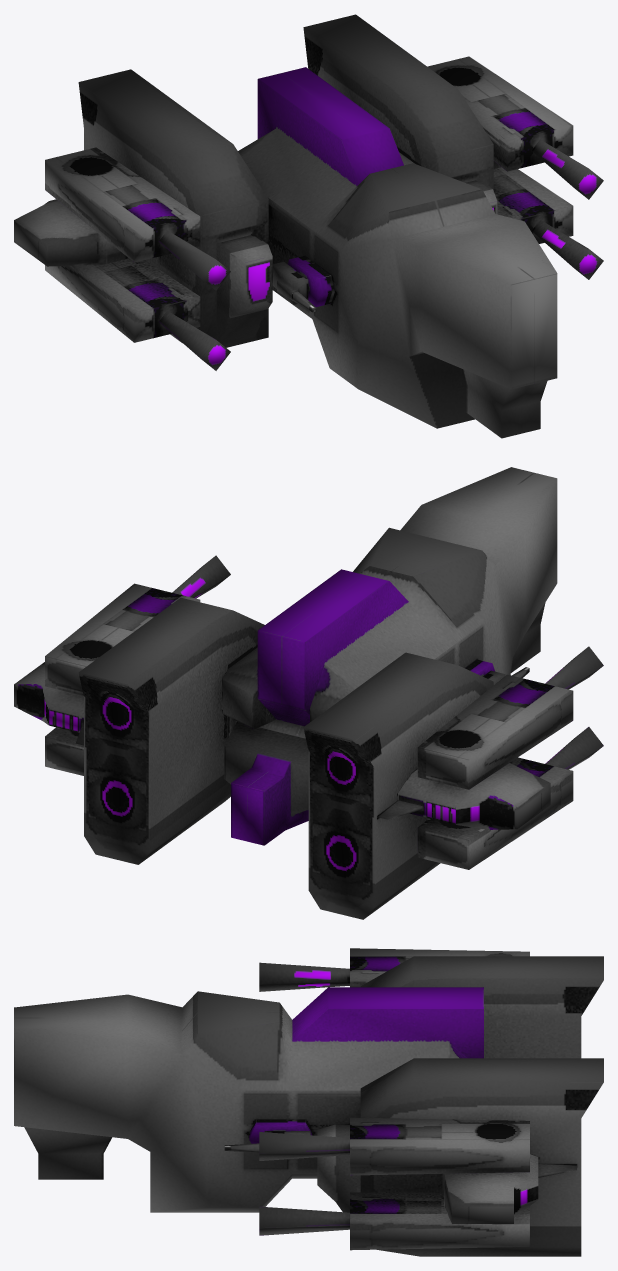
Rendered from PFrigate.fbx.
3 views of the same model, one above another, from view 1: azimuth 30°, elevation 25°; view 2: azimuth 150°, elevation 25°; view 3: azimuth 270°, elevation 25° (orthographic). The views are drawn at different scales.
Parts seen in each view (by area): view 1: PFrigateMod; view 2: PFrigateMod; view 3: PFrigateMod.
Boxes of the visible parts, <box> form: PFrigateMod: <box>14,14,603,438</box>; PFrigateMod: <box>14,467,603,919</box>; PFrigateMod: <box>14,948,603,1256</box>.
Size of the model in its own units: 34.64 by 14.38 by 37.8.
1 material, 1 textured.
